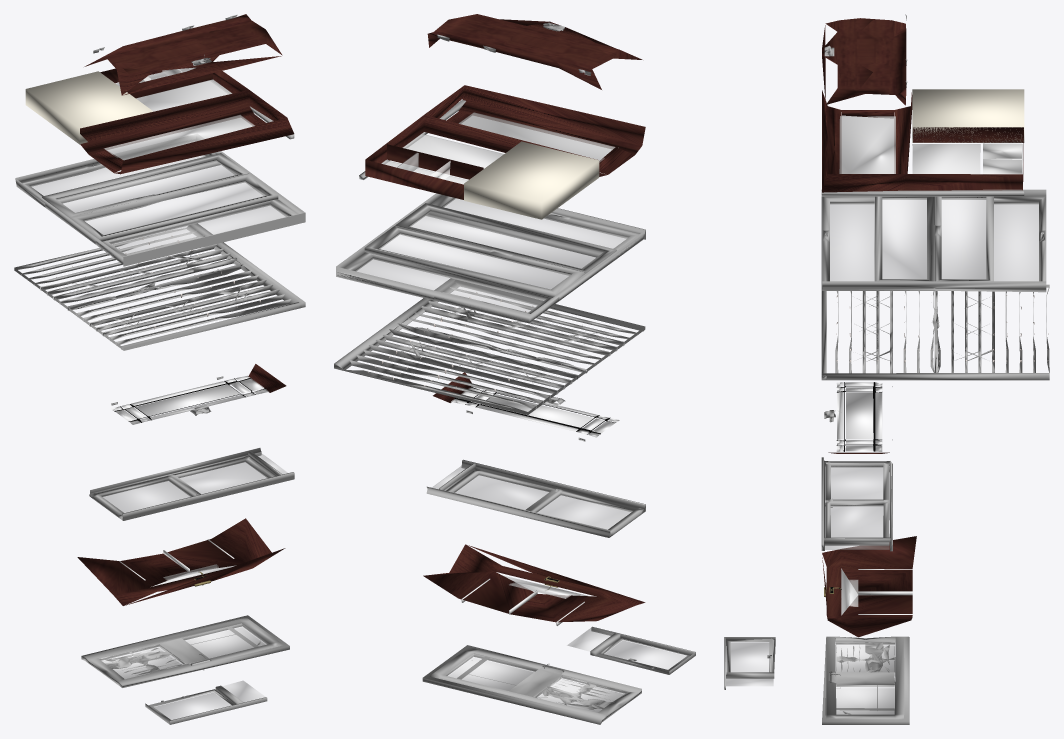
File: doors_window.glb
3 views of the same model, side by side, from view 1: azimuth 30°, elevation 25°; view 2: azimuth 150°, elevation 25°; view 3: azimuth 270°, elevation 25° (orthographic). The views are drawn at different scales.
Visible parts, largest first — view 1: body; view 2: body; view 3: body.
Part boxes in pixels (left/top/right/bottom): body: left=14, top=14, right=305, bottom=724; body: left=334, top=14, right=695, bottom=724; body: left=724, top=14, right=1049, bottom=724.
Size of the model in its own units: 0.6815 by 2.2 by 1.01.
12 materials, 1 textured.
